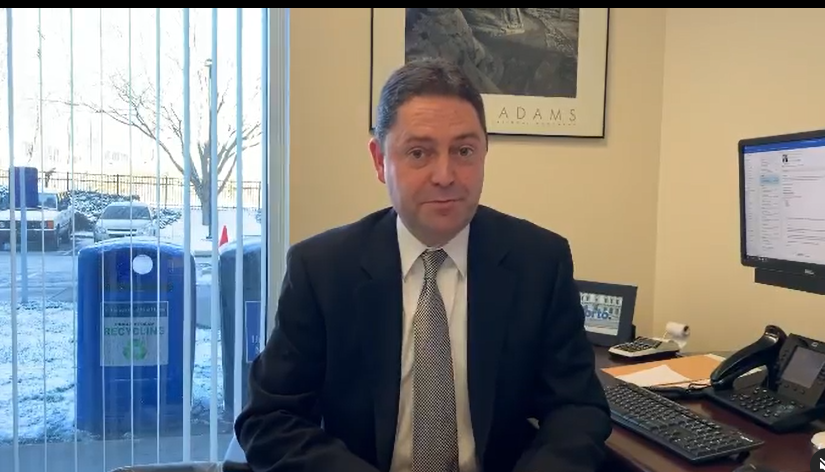Staff: (342, 53, 538, 274)
